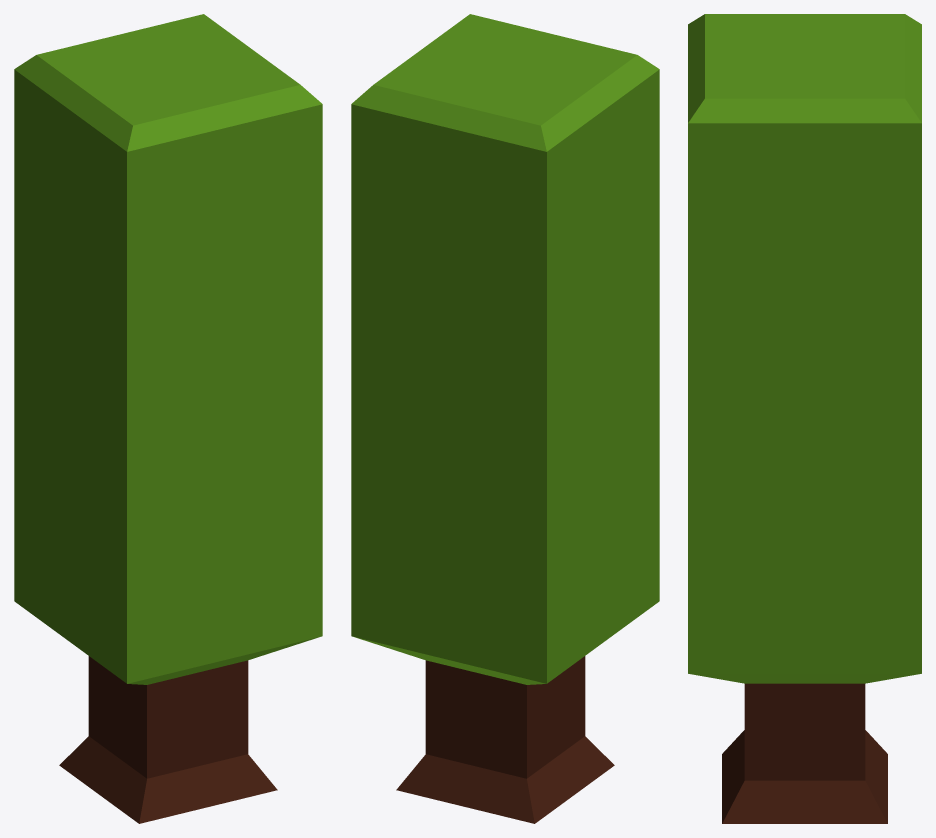
3 views of the same model, side by side, from view 1: azimuth 30°, elevation 25°; view 2: azimuth 150°, elevation 25°; view 3: azimuth 270°, elevation 25° (orthographic). The views are drawn at different scales.
Parts seen in each view (by area): view 1: Arbol2; view 2: Arbol2; view 3: Arbol2.
Boxes of the visible parts, <box> form: Arbol2: <box>14,14,322,823</box>; Arbol2: <box>351,14,659,823</box>; Arbol2: <box>688,14,921,823</box>.
Bounding box in the file's own units: 80 × 277 × 80.
